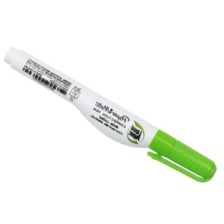correction_fluid: (3, 45, 218, 184)
